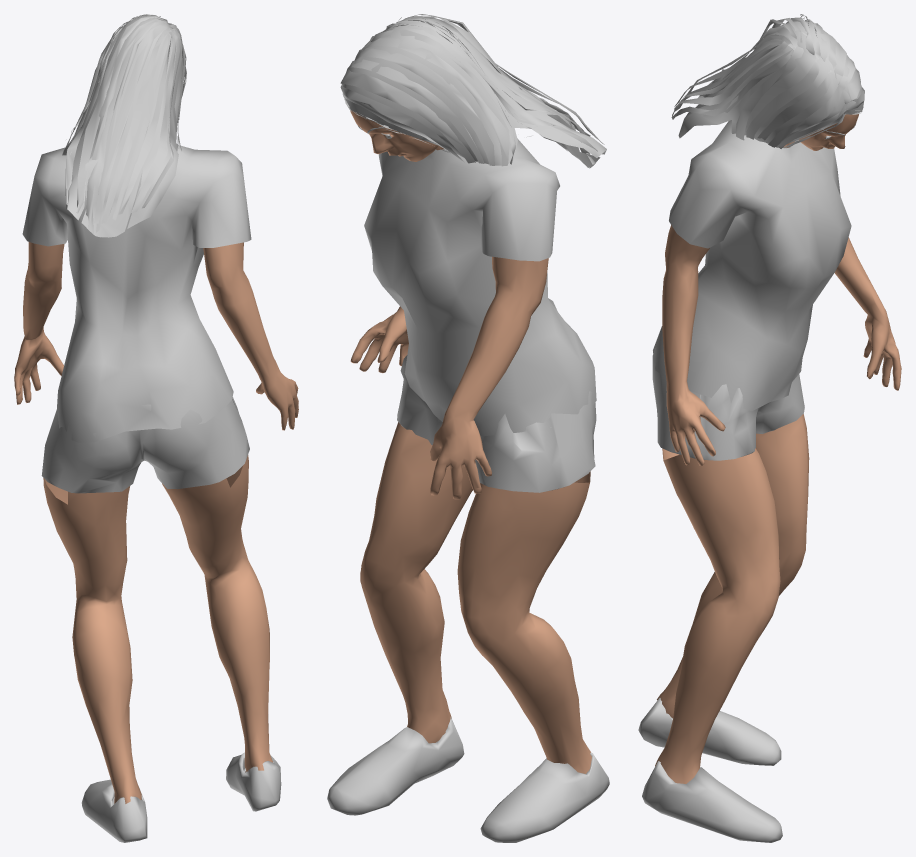
Rendered from player2att_000007.obj.
3 views of the same model, side by side, from view 1: azimuth 30°, elevation 25°; view 2: azimuth 150°, elevation 25°; view 3: azimuth 270°, elevation 25° (orthographic). The views are drawn at different scales.
Parts seen in each view (by area): view 1: player2:Body, player2:tshirt02, player2:fhair01, player2:short01, player2:shoes02; view 2: player2:Body, player2:tshirt02, player2:fhair01, player2:shoes02, player2:short01; view 3: player2:Body, player2:tshirt02, player2:fhair01, player2:shoes02, player2:short01.
Part boxes in pixels (left/top/right/bottom): player2:Body: left=14, top=242, right=298, bottom=803; player2:tshirt02: left=22, top=145, right=251, bottom=442; player2:fhair01: left=62, top=14, right=186, bottom=237; player2:short01: left=41, top=397, right=249, bottom=493; player2:shoes02: left=81, top=752, right=281, bottom=842; player2:Body: left=350, top=110, right=591, bottom=773; player2:tshirt02: left=364, top=138, right=596, bottom=436; player2:fhair01: left=340, top=14, right=606, bottom=168; player2:shoes02: left=327, top=717, right=609, bottom=842; player2:short01: left=397, top=355, right=596, bottom=492; player2:Body: left=655, top=114, right=901, bottom=783; player2:tshirt02: left=653, top=120, right=851, bottom=411; player2:fhair01: left=671, top=14, right=864, bottom=148; player2:shoes02: left=638, top=698, right=782, bottom=842; player2:short01: left=652, top=347, right=804, bottom=460.
Bounding box in the file's own units: 5.15 × 16.19 × 4.97.
